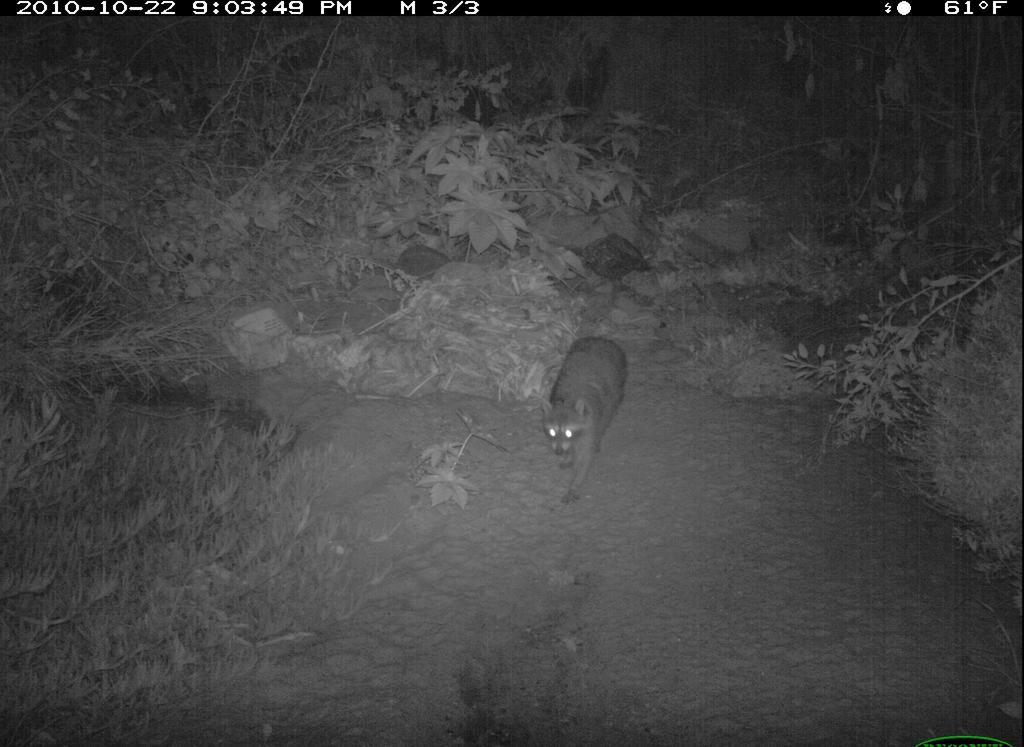raccoon: (532, 333, 641, 511)
